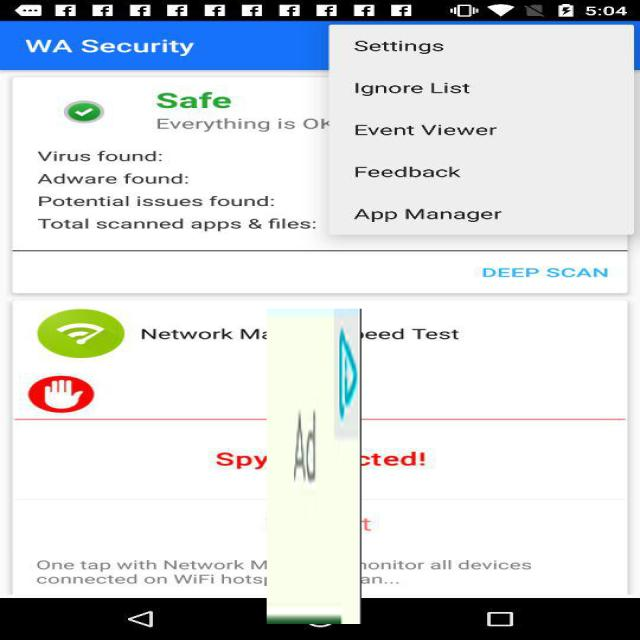sneaking: (266, 309, 362, 624)
